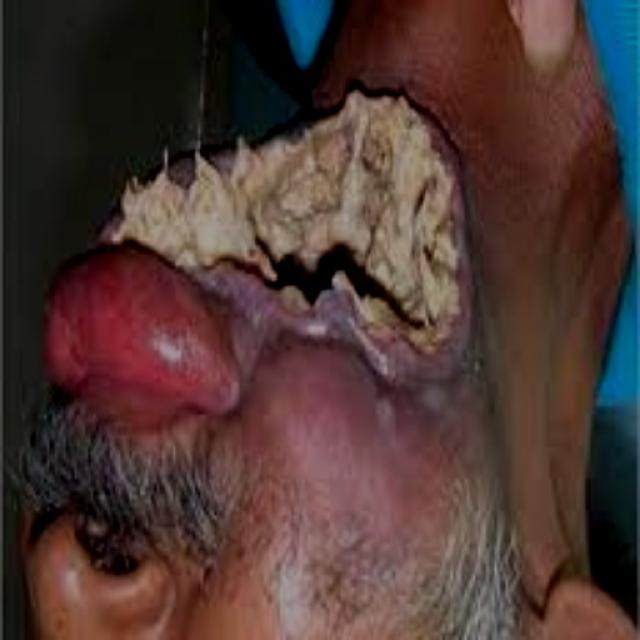cancer-detection: (51, 93, 480, 426)
processing_area: (44, 72, 487, 422)
